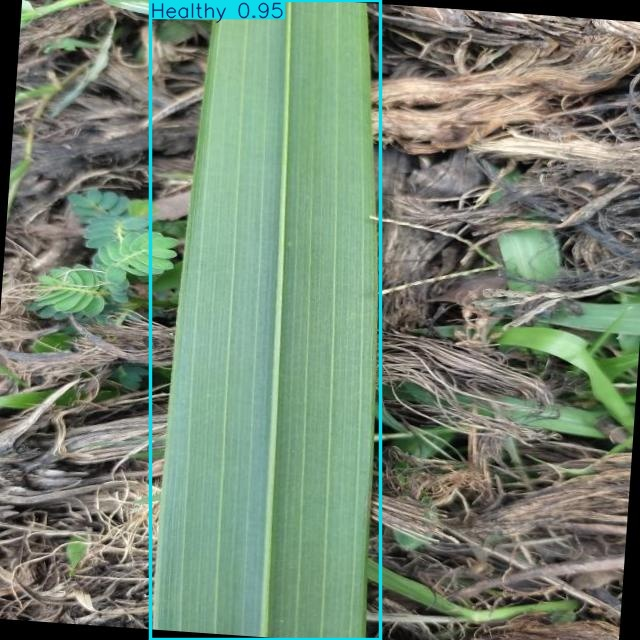Healthy: (150, 0, 380, 640)
